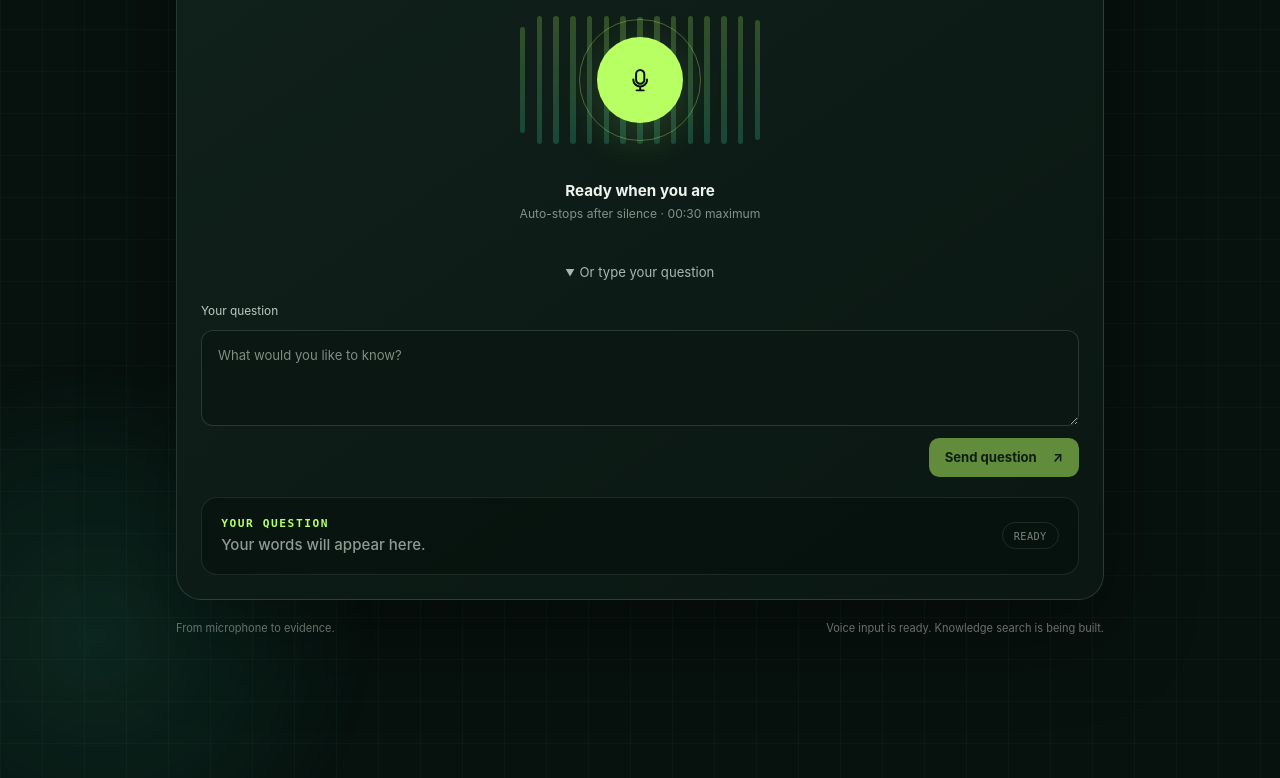
Test: question flow › keeps a nonretryable backend error actionable through new input
(page scrolled)
Type "Question one" into the text box labelled "Your question" at (640, 378), box [201,330,1079,426]
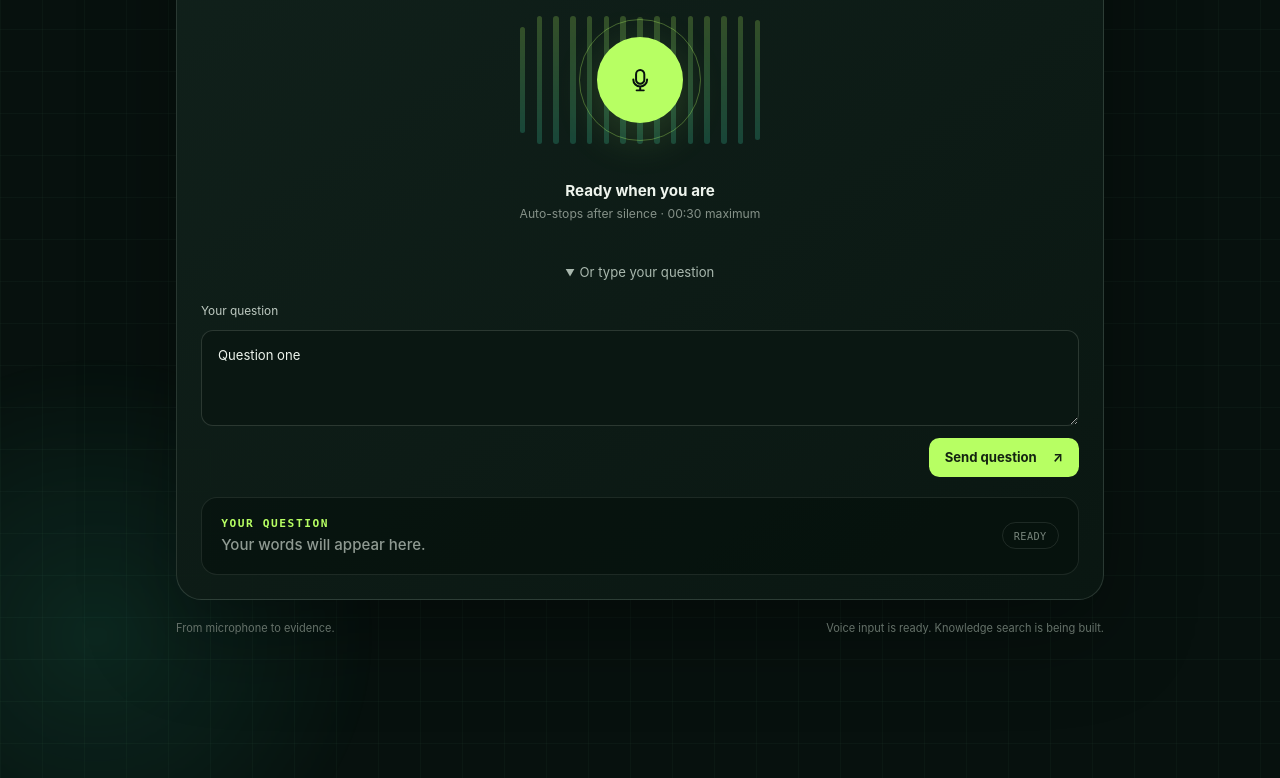
Click the button "Send question ↗" at (1004, 457), box [929,438,1079,477]
(page scrolled)
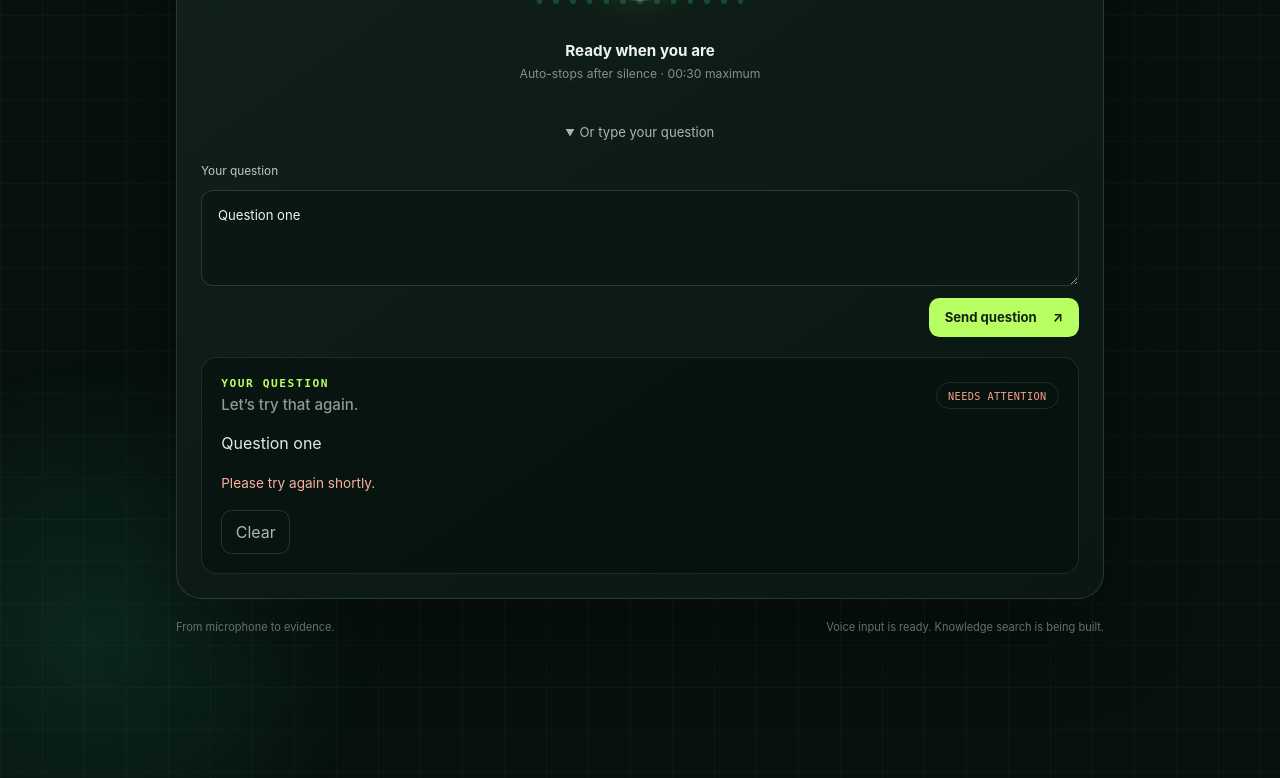
Check: the button "Send question ↗" is enabled, box [929,298,1079,337]
Check: the message "Please try again shortly." is shown, box [221,475,375,491]
